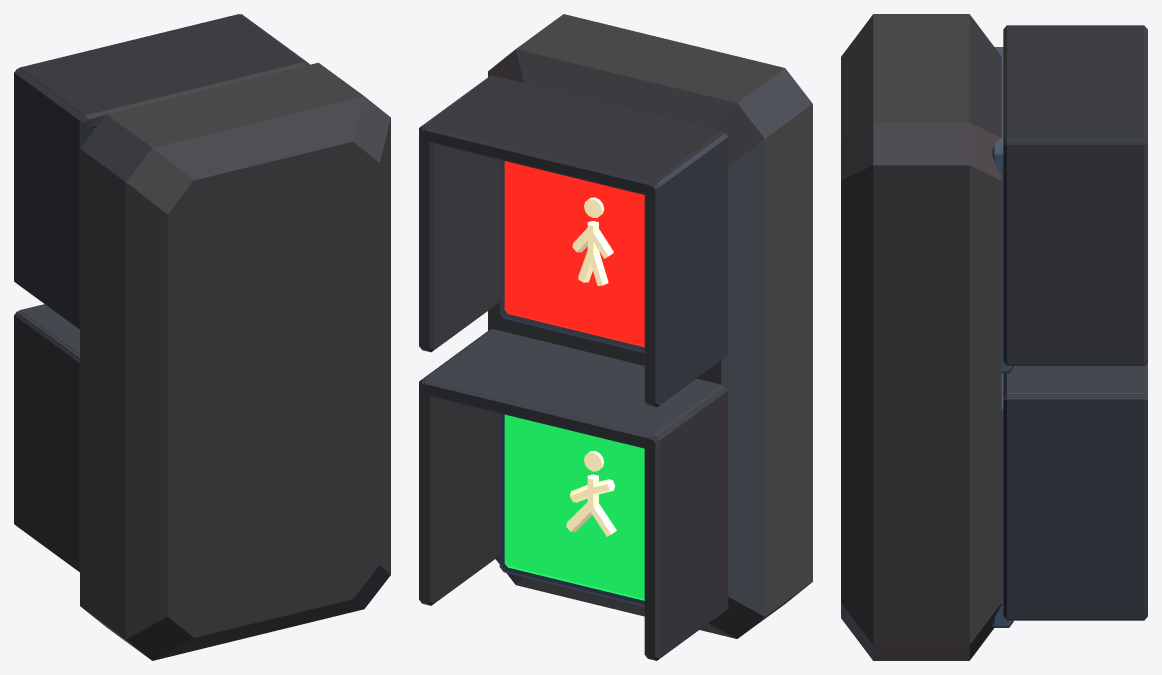
Rendered from ART_Signal_Pedestrian.lod.glb.
3 renders of one model, left to right at view 1: azimuth 30°, elevation 25°; view 2: azimuth 150°, elevation 25°; view 3: azimuth 270°, elevation 25°, orthographic. The views are drawn at different scales.
Visible parts, largest first — view 1: ART_Signal_Pedestrian; view 2: ART_Signal_Pedestrian; view 3: ART_Signal_Pedestrian.
Boxes of the visible parts, x1=… form: ART_Signal_Pedestrian: x1=14, y1=14, x2=390, y2=660; ART_Signal_Pedestrian: x1=419, y1=14, x2=812, y2=660; ART_Signal_Pedestrian: x1=841, y1=14, x2=1147, y2=660.
Bounding box in the file's own units: 0.4 × 0.74 × 0.382.
